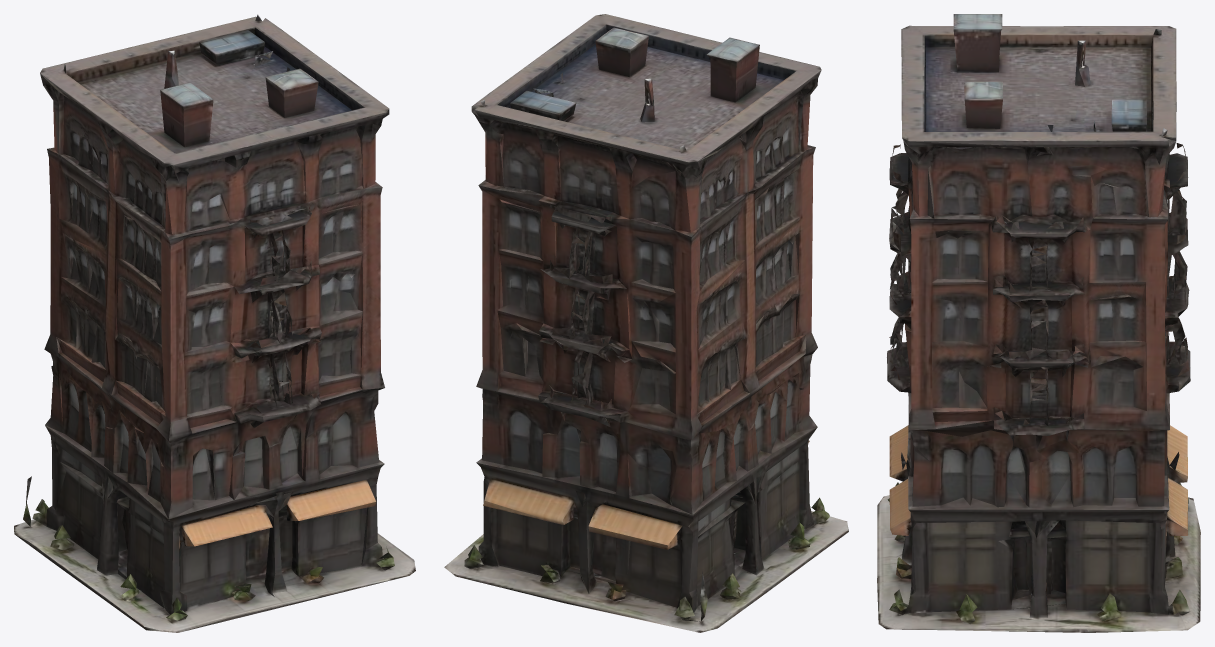
The model's file is brownstone.glb.
3 views of the same model, side by side, from view 1: azimuth 30°, elevation 25°; view 2: azimuth 150°, elevation 25°; view 3: azimuth 270°, elevation 25° (orthographic). The views are drawn at different scales.
Parts seen in each view (by area): view 1: brownstone; view 2: brownstone; view 3: brownstone.
Boxes of the visible parts, x1,y1,x2,y2 form: brownstone: [14, 14, 415, 632]; brownstone: [444, 14, 848, 632]; brownstone: [877, 14, 1200, 632].
Bounding box in the file's own units: 1.09 × 1.9 × 1.08.
1 material, 1 textured.
